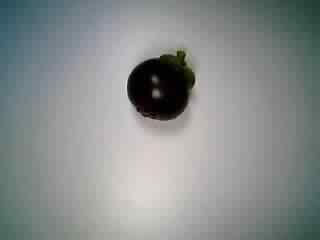mangosteen: (121, 46, 197, 125)
